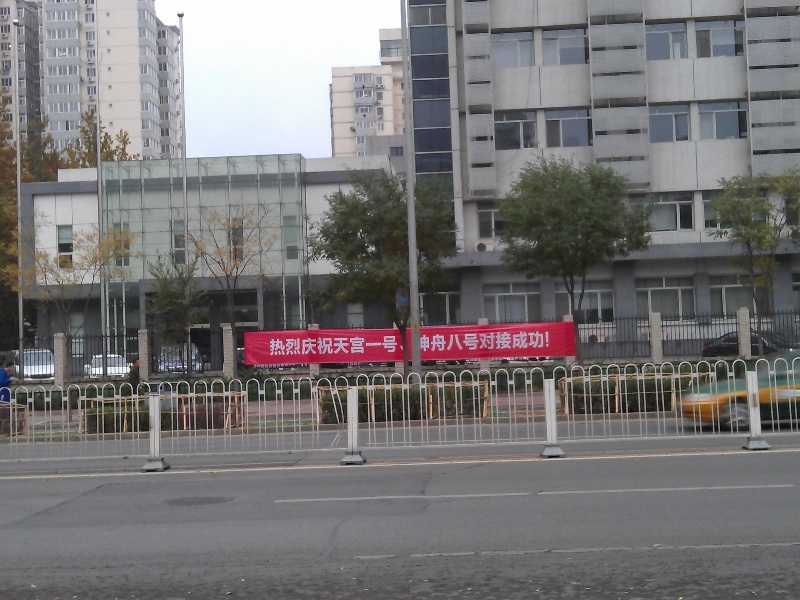text: (433, 329, 448, 353), (449, 329, 464, 353), (465, 329, 480, 353), (481, 329, 496, 353), (497, 329, 512, 353), (513, 329, 528, 353), (529, 329, 544, 353), (273, 335, 288, 357), (289, 335, 304, 357), (305, 335, 320, 357), (321, 335, 336, 357), (337, 335, 352, 357), (353, 335, 368, 357), (369, 335, 384, 357), (385, 335, 400, 357), (421, 329, 432, 353), (545, 329, 551, 353), (267, 335, 272, 357), (401, 335, 405, 357)
